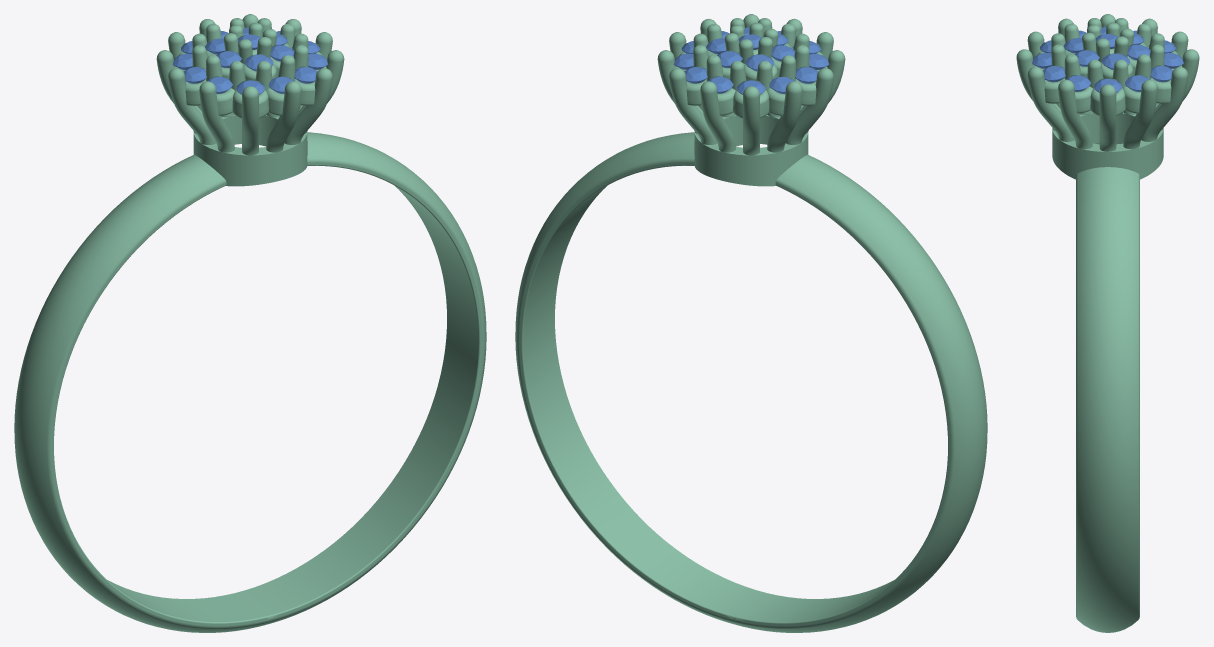
3 renders of one model, left to right at view 1: azimuth 30°, elevation 25°; view 2: azimuth 150°, elevation 25°; view 3: azimuth 270°, elevation 25°, orthographic. The views are drawn at different scales.
Visible parts, largest first — view 1: anel chuveiro.3dm; view 2: anel chuveiro.3dm; view 3: anel chuveiro.3dm, Gem (×2).
Boxes of the visible parts, left/top/right/bottom form: anel chuveiro.3dm: left=14, top=14, right=486, bottom=632; anel chuveiro.3dm: left=515, top=14, right=987, bottom=632; anel chuveiro.3dm: left=1016, top=14, right=1199, bottom=632; Gem (×2): left=1043, top=65, right=1172, bottom=82.
Bounding box in the file's own units: 2.47 × 3.03 × 0.87.
